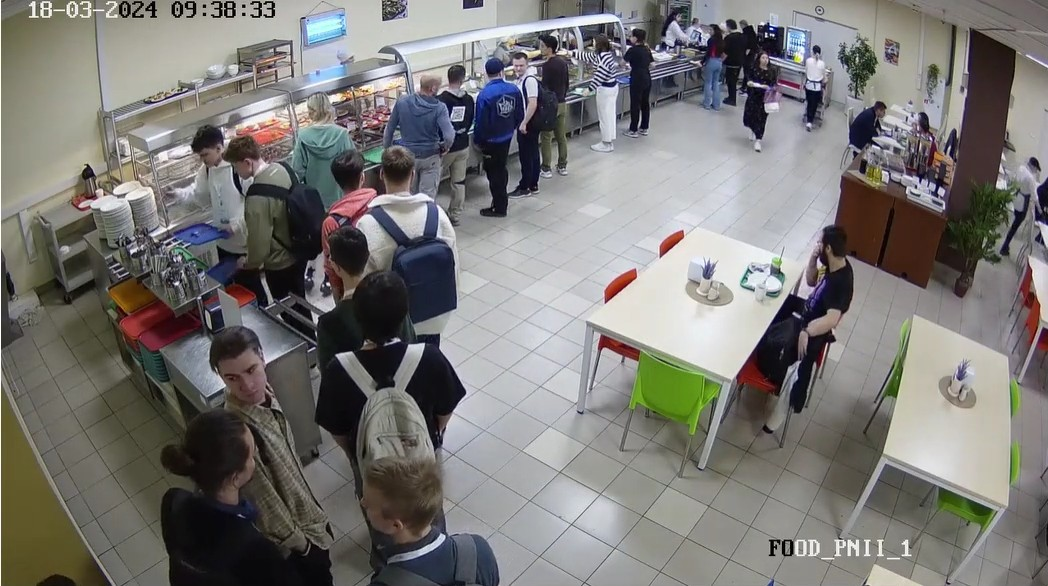Na_Kasse: (703, 25, 722, 112), (722, 11, 739, 106), (738, 18, 758, 50)
Ne_v_Ocheredi: (338, 284, 451, 475), (164, 415, 288, 586), (367, 454, 507, 586), (371, 152, 449, 310), (319, 229, 385, 385), (209, 325, 284, 461), (322, 158, 373, 240), (743, 50, 772, 144)
Personal: (1002, 154, 1043, 253), (804, 41, 824, 127), (665, 5, 681, 41), (497, 31, 519, 57), (334, 44, 357, 64), (690, 16, 706, 42)
Vybiraet: (230, 134, 322, 301), (174, 122, 243, 262), (388, 64, 446, 164), (439, 66, 473, 235), (480, 62, 518, 209), (286, 89, 346, 180), (510, 58, 548, 190), (539, 38, 576, 171), (587, 33, 620, 145), (626, 28, 657, 135)
Za_Stolom: (763, 227, 863, 353), (837, 104, 887, 162), (909, 103, 939, 142)
